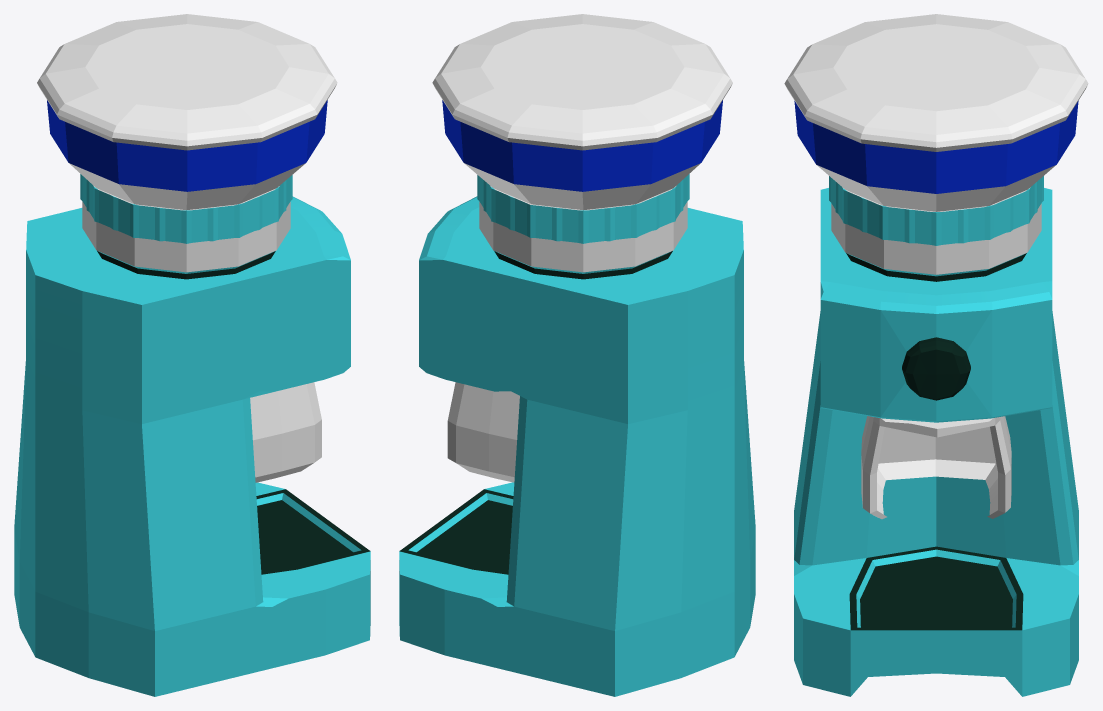
File: Grinder.fbx
The picture shows the model from 3 angles, left to right: view 1: azimuth 30°, elevation 25°; view 2: azimuth 150°, elevation 25°; view 3: azimuth 270°, elevation 25°; orthographic projection.
Visible parts, largest first — view 1: Coffee_Grinder_Model; view 2: Coffee_Grinder_Model; view 3: Coffee_Grinder_Model.
Part boxes in pixels (box(x1,y1,x2,y2)): Coffee_Grinder_Model: box(14, 14, 370, 696); Coffee_Grinder_Model: box(399, 14, 755, 696); Coffee_Grinder_Model: box(784, 14, 1088, 696).
Bounding box in the file's own units: 35.04 × 61.4 × 30.24.
